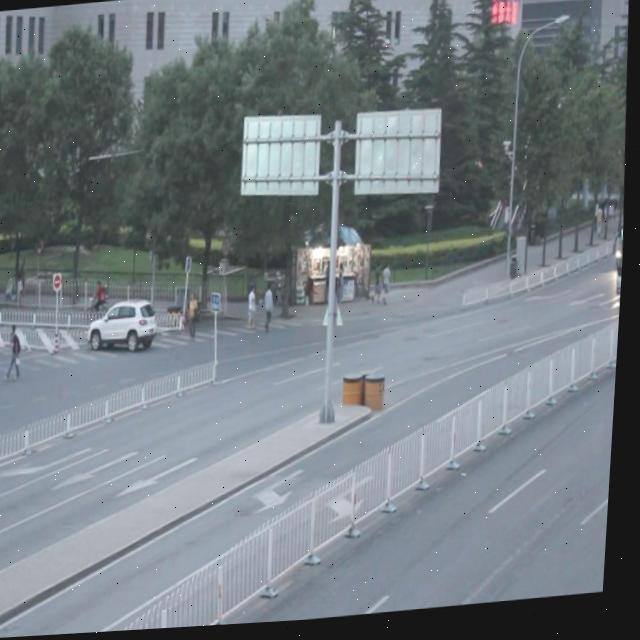car: (90, 296, 163, 357)
van: (611, 218, 628, 315)
